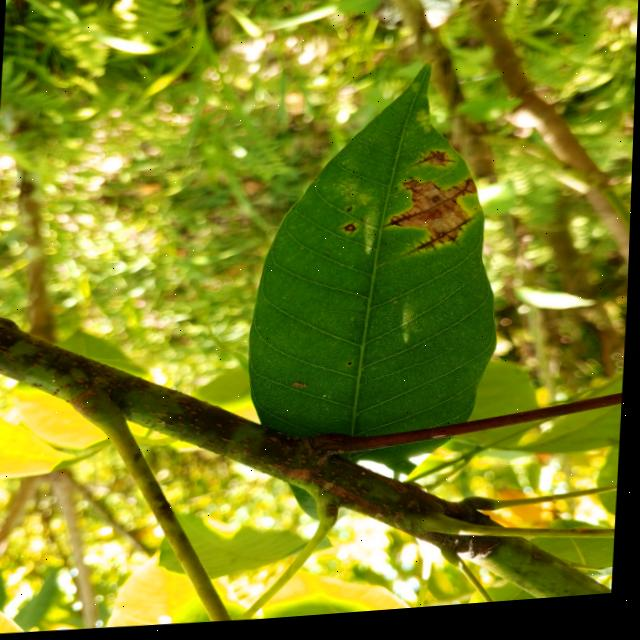Colletotrichum: (350, 367, 355, 371)
Corynespora: (410, 225, 474, 262), (415, 156, 458, 175), (384, 217, 420, 234), (453, 185, 475, 205), (342, 227, 361, 242)
Leaf-Blight: (401, 183, 470, 252)
